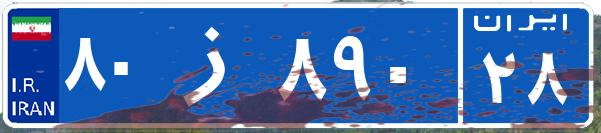0: (385, 28, 445, 110), (110, 28, 158, 105)
2: (475, 38, 525, 113)
8: (273, 28, 330, 110), (57, 26, 110, 107), (525, 38, 570, 115)
9: (330, 28, 385, 110)
ز: (158, 15, 273, 115)
